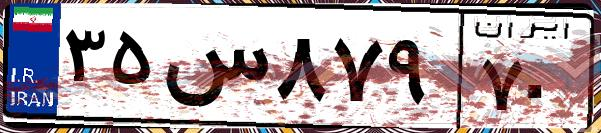0: (525, 38, 570, 115)
3: (57, 26, 110, 100)
5: (110, 28, 158, 98)
7: (330, 28, 385, 110), (475, 38, 525, 113)
8: (270, 28, 330, 110)
9: (385, 28, 445, 110)
س: (158, 20, 270, 120)
